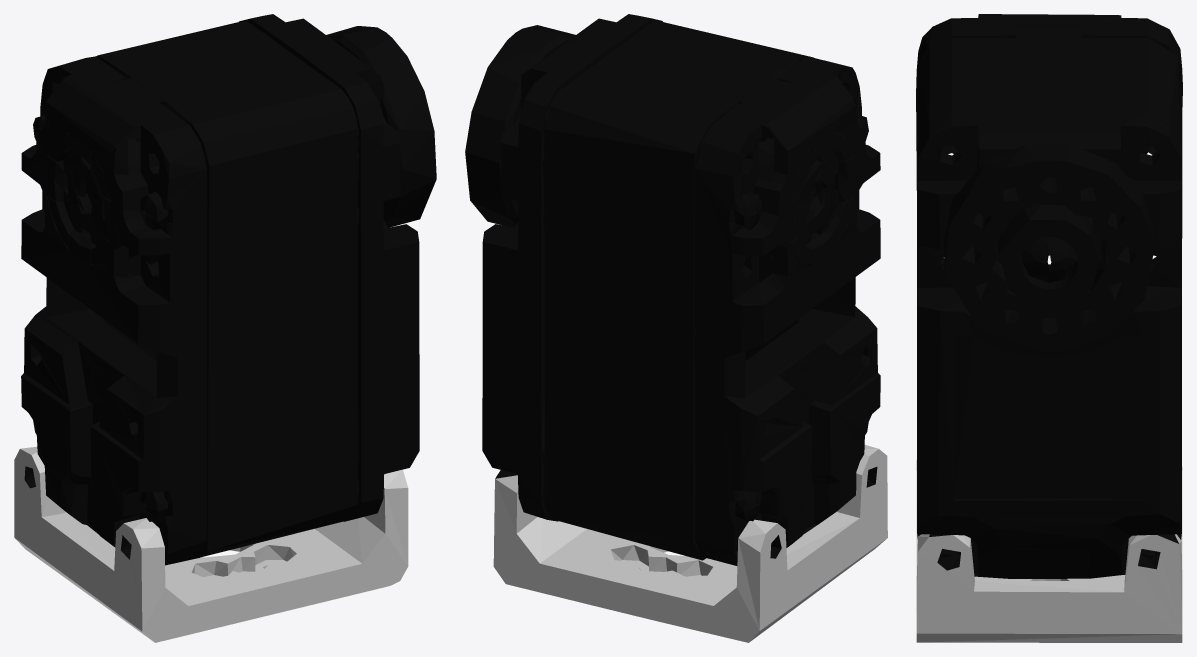
File: servo6_link.dae
3 views of the same model, side by side, from view 1: azimuth 30°, elevation 25°; view 2: azimuth 150°, elevation 25°; view 3: azimuth 270°, elevation 25° (orthographic). The views are drawn at different scales.
Visible parts, largest first — view 1: servo6_link; view 2: servo6_link; view 3: servo6_link.
Boxes of the visible parts, x1,y1,x2,y2 form: servo6_link: [14, 14, 436, 642]; servo6_link: [465, 14, 887, 642]; servo6_link: [916, 14, 1182, 642].
Bounding box in the file's own units: 0.0349 × 0.0241 × 0.051.
1 material, 1 textured.
